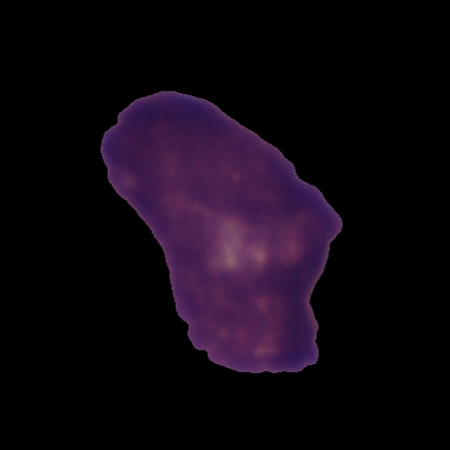ALL: (96, 86, 345, 375)
